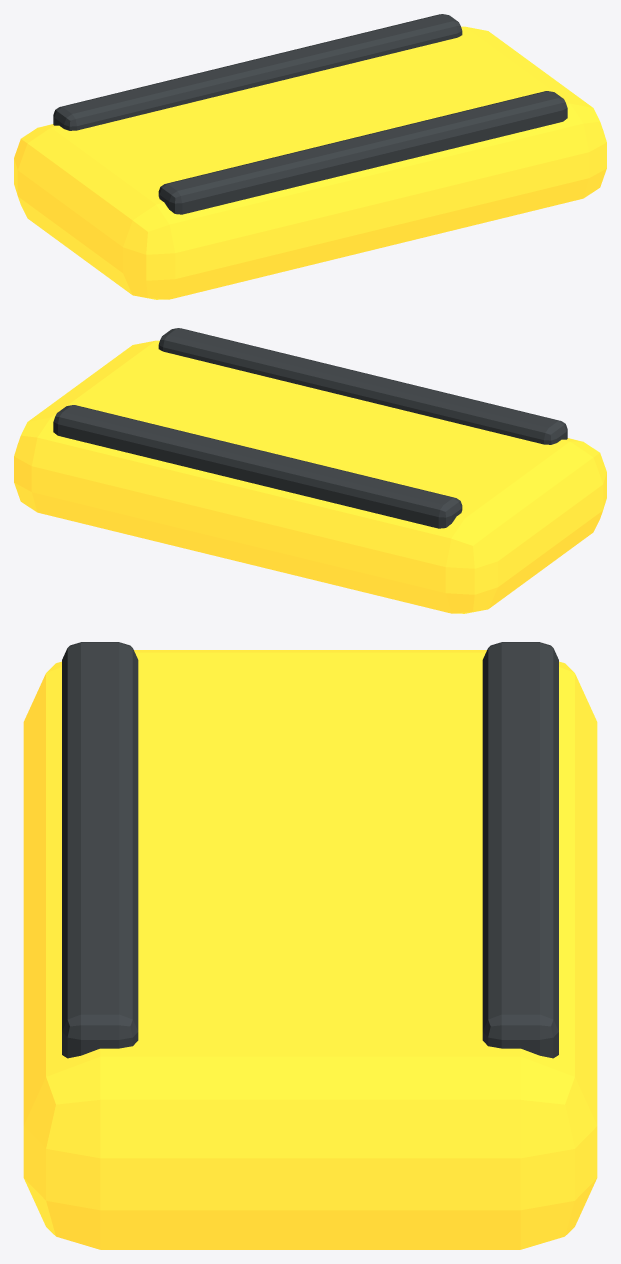
File: SM_Steelworks_Slab.fbx
3 views of the same model, one above another, from view 1: azimuth 30°, elevation 25°; view 2: azimuth 150°, elevation 25°; view 3: azimuth 270°, elevation 25° (orthographic). The views are drawn at different scales.
Parts seen in each view (by area): view 1: SM_Steelworks_Slab; view 2: SM_Steelworks_Slab; view 3: SM_Steelworks_Slab.
Part boxes in pixels (bbox=[...]): SM_Steelworks_Slab: bbox=[14, 14, 606, 299]; SM_Steelworks_Slab: bbox=[14, 328, 606, 613]; SM_Steelworks_Slab: bbox=[23, 642, 597, 1249].
Size of the model in its own units: 58 by 30 by 12.5.
